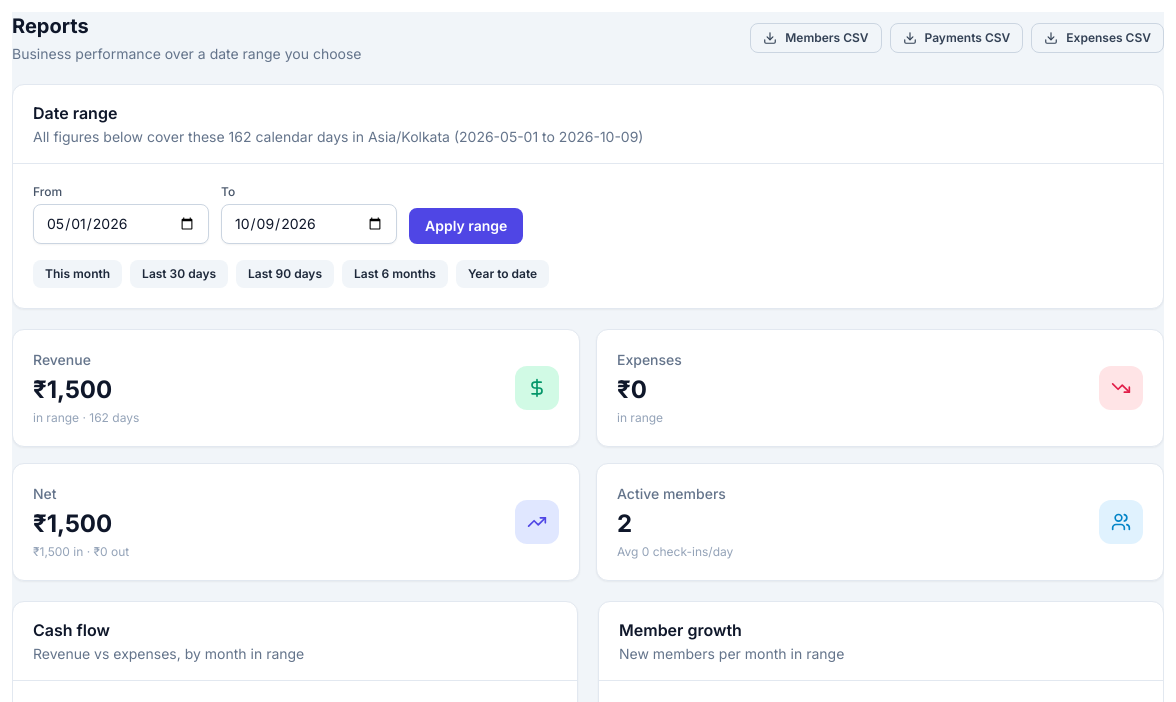
Reports date range › averages check-ins over calendar days, not days with attendance
Check: the text "calendar days" is shown, box top-left (33, 128), bottom-right (644, 145)
Type "2026-01-01" into the date field labelled "From" at (121, 224), box top-left (33, 204), bottom-right (209, 244)
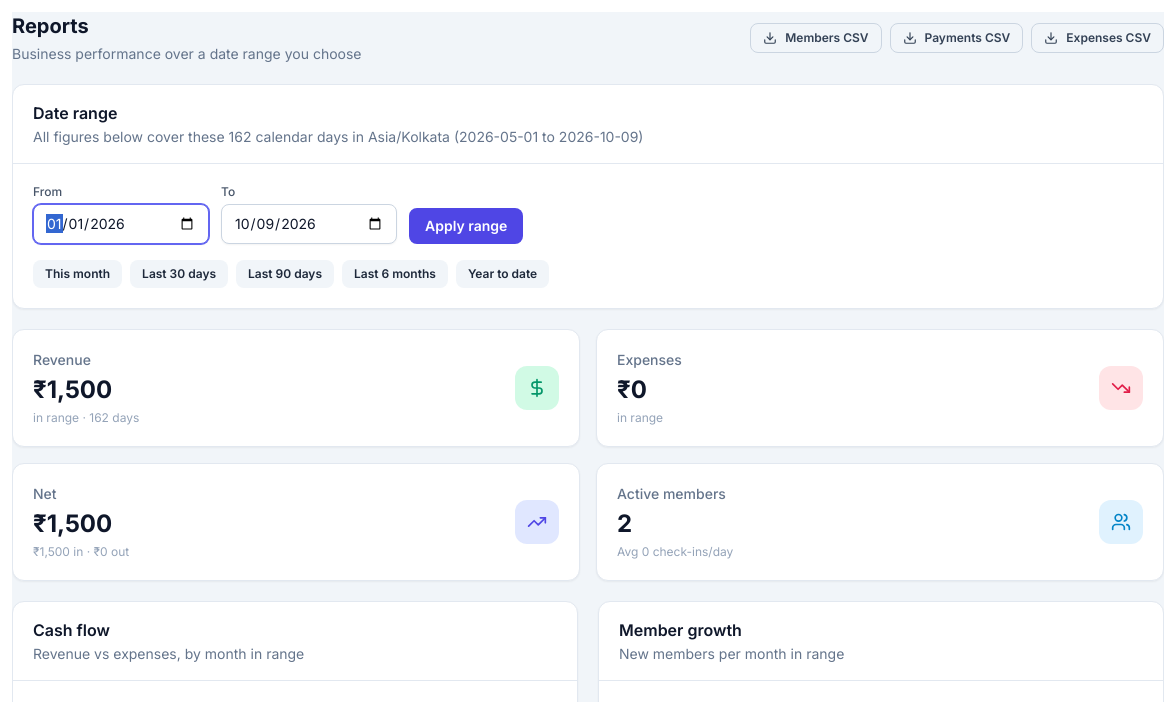
Type "2026-01-31" into the date field labelled "To" at (309, 224), box top-left (221, 204), bottom-right (397, 244)
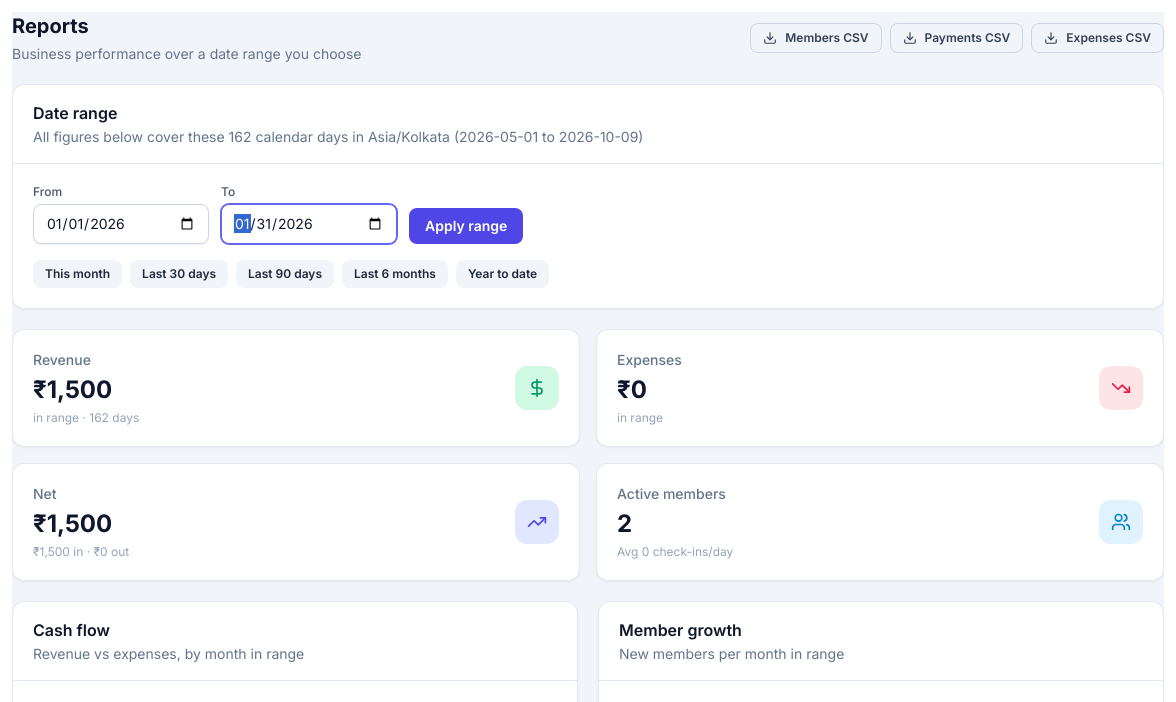
Click the button "Apply range" at (466, 226), box top-left (409, 208), bottom-right (523, 244)
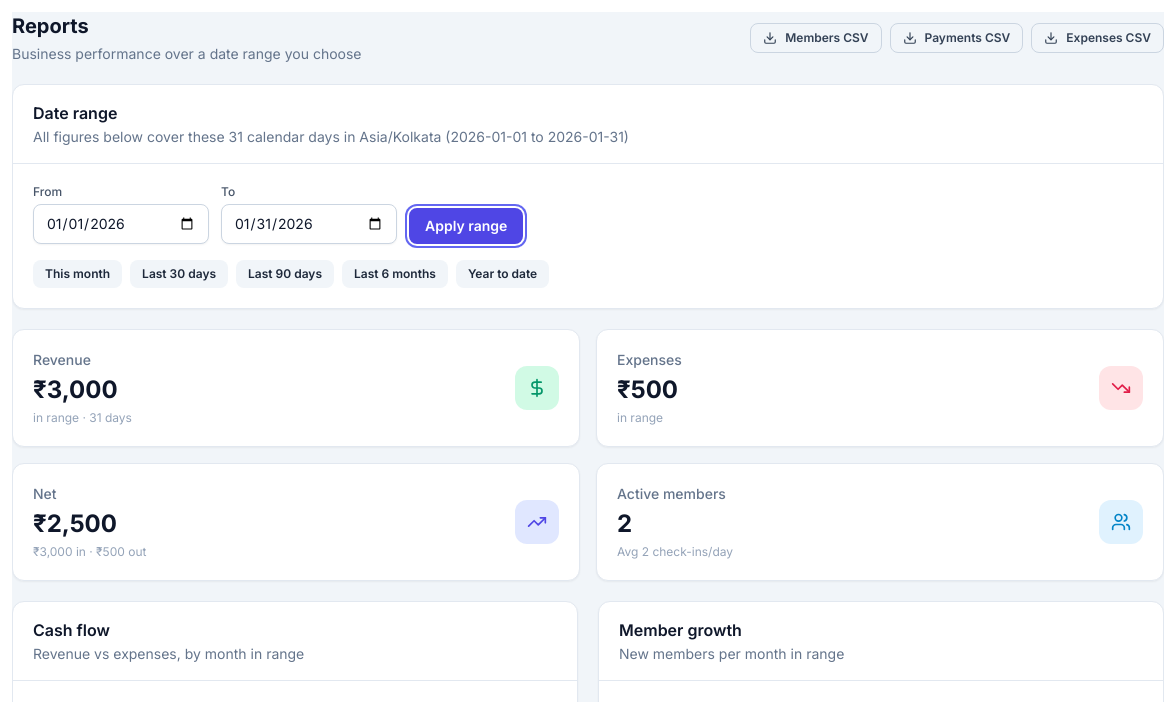
Check: the text "Avg 2 check-ins/day" is shown, box top-left (617, 544), bottom-right (733, 560)
